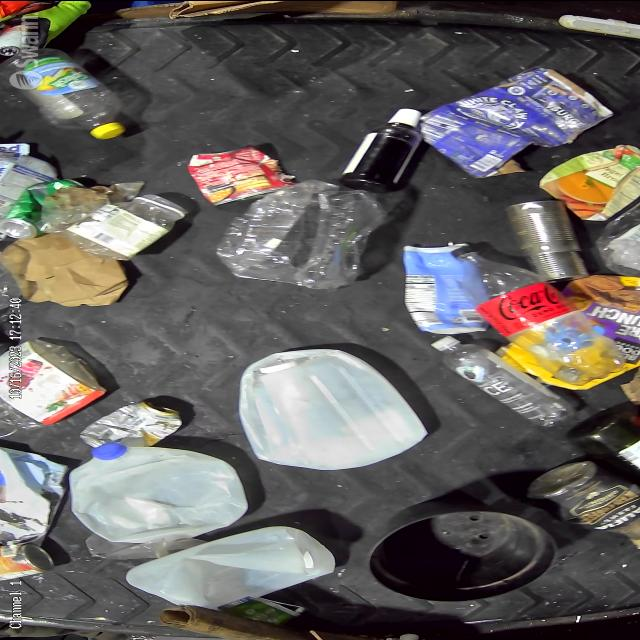can: (190, 138, 298, 206), (512, 198, 594, 280), (75, 396, 181, 454), (3, 530, 65, 582)
milk_jug: (238, 344, 432, 472), (120, 522, 338, 612), (64, 437, 246, 540)
plastic_bottle: (438, 248, 624, 384), (0, 33, 130, 141), (436, 334, 576, 432)
